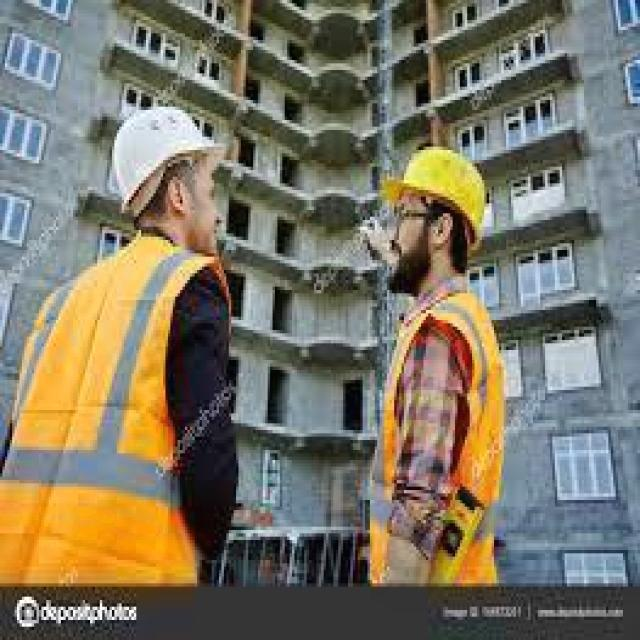face_nomask: (163, 157, 231, 260), (380, 197, 438, 290)
hand_glove: (355, 213, 397, 277)
head_helmet: (111, 103, 220, 197), (389, 140, 492, 233)
person: (2, 86, 244, 576), (356, 133, 514, 577)
vest: (15, 254, 212, 574), (370, 297, 499, 570)
